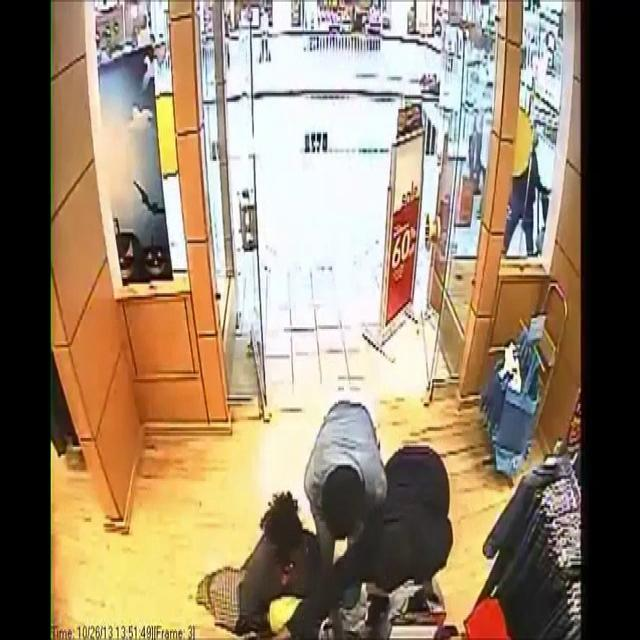Product: (260, 586, 302, 638)
shoplifting: (364, 418, 477, 640), (227, 476, 333, 640), (295, 388, 393, 540)
